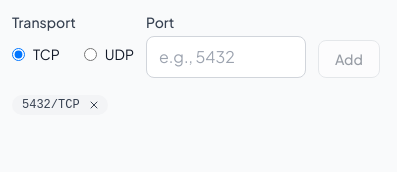
PortClaimPicker › rejects a duplicate claim but allows the other transport
The image size is (397, 172).
Type "5432" into the field labelled "Port" at (226, 57), box [146,36,306,78]
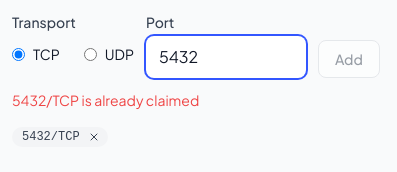
Expected: the button "Add" is disabled, [318,40,380,78]
Expected: the text "5432/TCP is already claimed" is shown, [12,91,199,109]
Click the radio button labelled "UDP" at (90, 54), box [84,48,97,60]
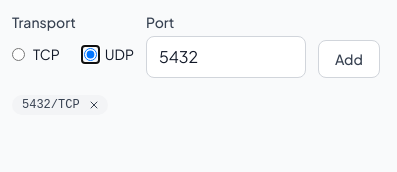
Expected: the text "already claimed" is gone
Expected: the button "Add" is enabled, [318,40,380,78]
